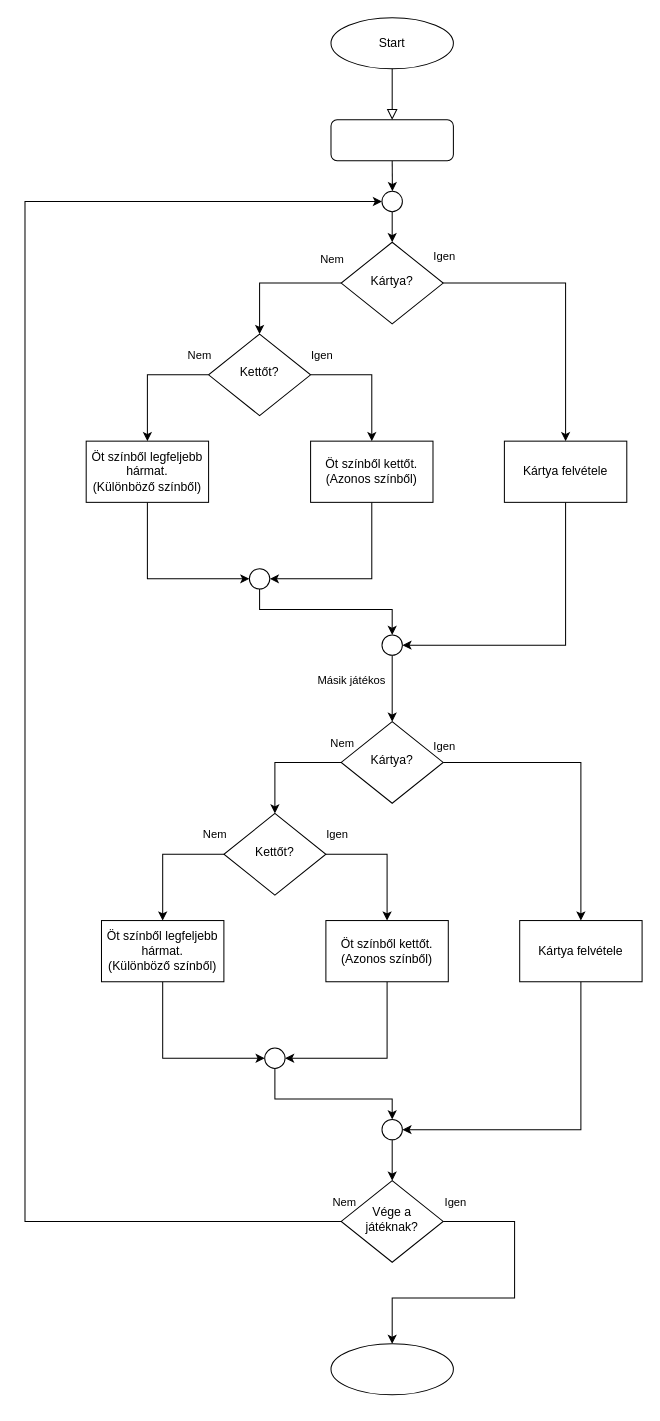
This 660x1421 diagram has some shape labels left out. Here are the shapes that lost their labels. From the top down, the centre of each, then its label:
At (x=391, y=140): "Kezdőjátékos kijelölése".
At (x=391, y=1369): "Stop".
